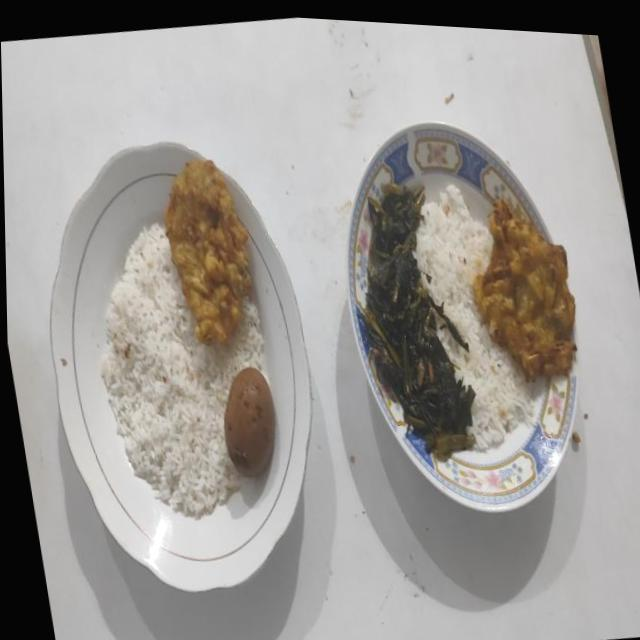nasi_putih: (101, 224, 268, 519), (414, 186, 534, 452)
tumis_kangkung: (360, 182, 476, 460)
